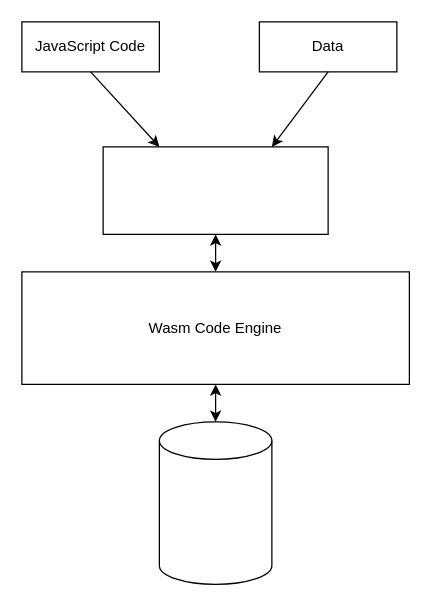
Image size: 431x606. Some labels were removed from this diagram. The shapes that lost their labels are listed below. From the top down, each one's centre as x and y in pixels, then its label:
At point (215, 190): "QuickJS compiled to Wasm".
At point (215, 502): "SingleStore".
